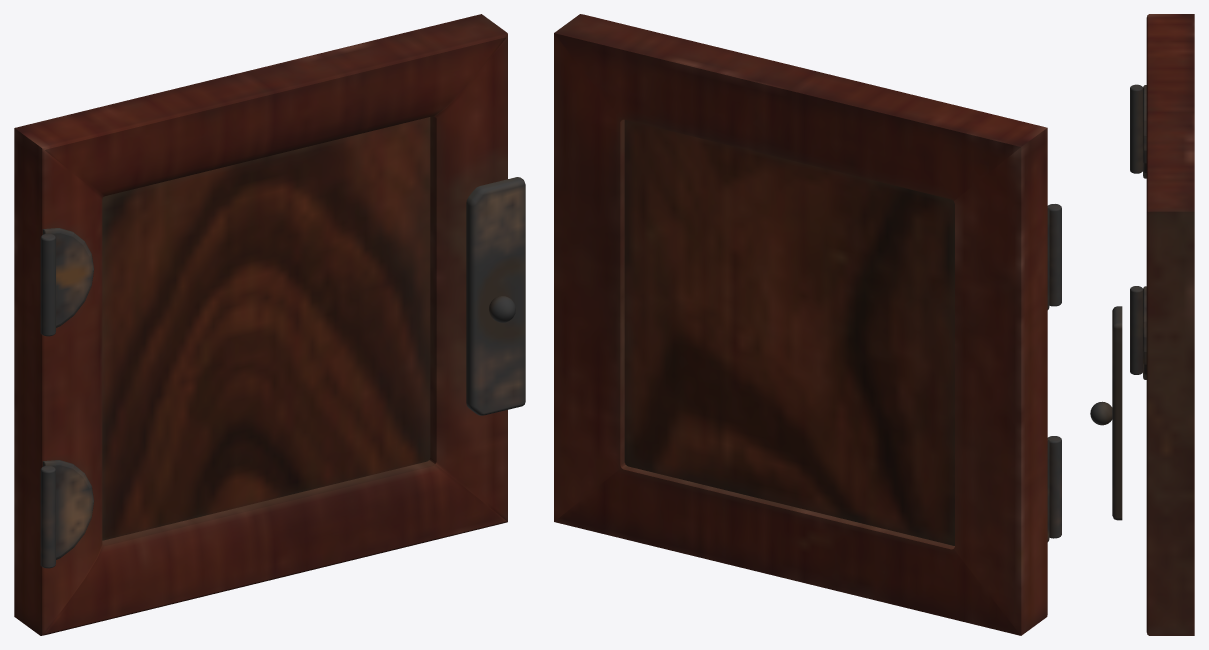
Rendered from SM_ThreetieredCupboard_door05.fbx.
3 views of the same model, side by side, from view 1: azimuth 30°, elevation 25°; view 2: azimuth 150°, elevation 25°; view 3: azimuth 270°, elevation 25° (orthographic). The views are drawn at different scales.
Parts seen in each view (by area): view 1: SM_ThreetieredCupboard_door05; view 2: SM_ThreetieredCupboard_door05; view 3: SM_ThreetieredCupboard_door05.
Part boxes in pixels (x1,y1,x2,y2): SM_ThreetieredCupboard_door05: (14,14,525,635); SM_ThreetieredCupboard_door05: (554,14,1061,635); SM_ThreetieredCupboard_door05: (1090,14,1194,635).
Size of the model in its own units: 29.31 by 28.92 by 6.44.
Materials: 1 (1 with a texture image).
